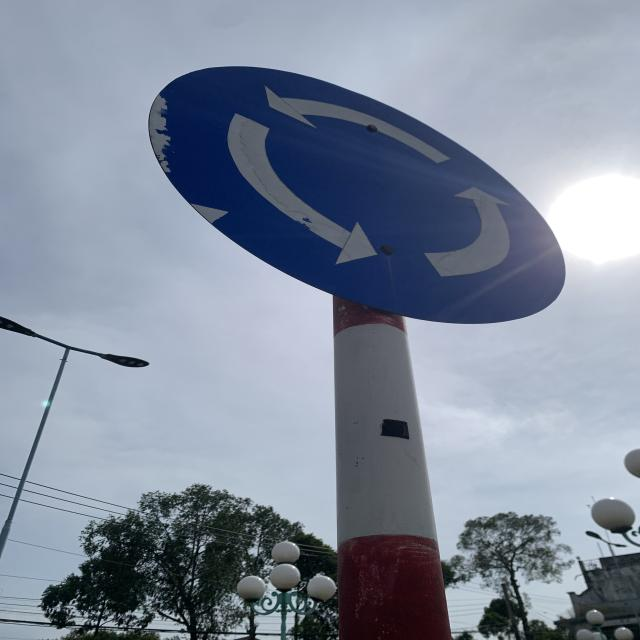Xe_Bus: (151, 63, 566, 323)
